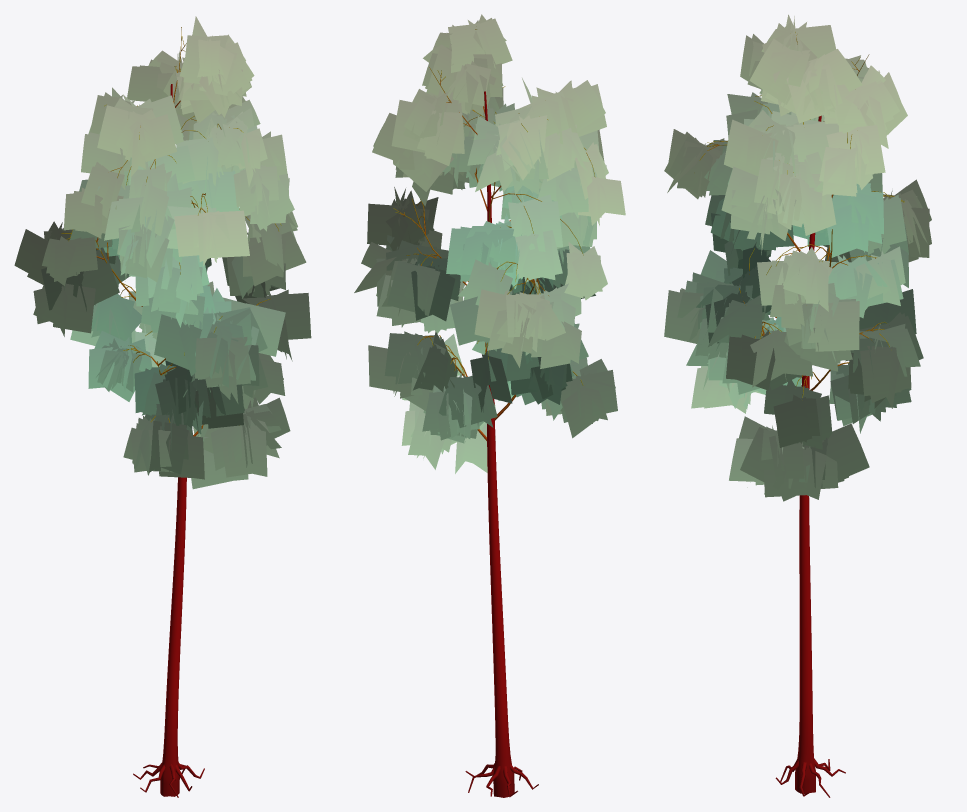
Rendered from birch_a.glb.
The picture shows the model from 3 angles, left to right: view 1: azimuth 30°, elevation 25°; view 2: azimuth 150°, elevation 25°; view 3: azimuth 270°, elevation 25°; orthographic projection. The views are drawn at different scales.
Visible parts, largest first — view 1: LOD0; view 2: LOD0; view 3: LOD0.
Boxes of the visible parts, x1=… form: LOD0: x1=14, y1=16, x2=311, y2=797; LOD0: x1=354, y1=14, x2=625, y2=797; LOD0: x1=664, y1=14, x2=931, y2=797.
Size of what is drawn, in the model's own units: 7.9 by 22.73 by 7.69.
